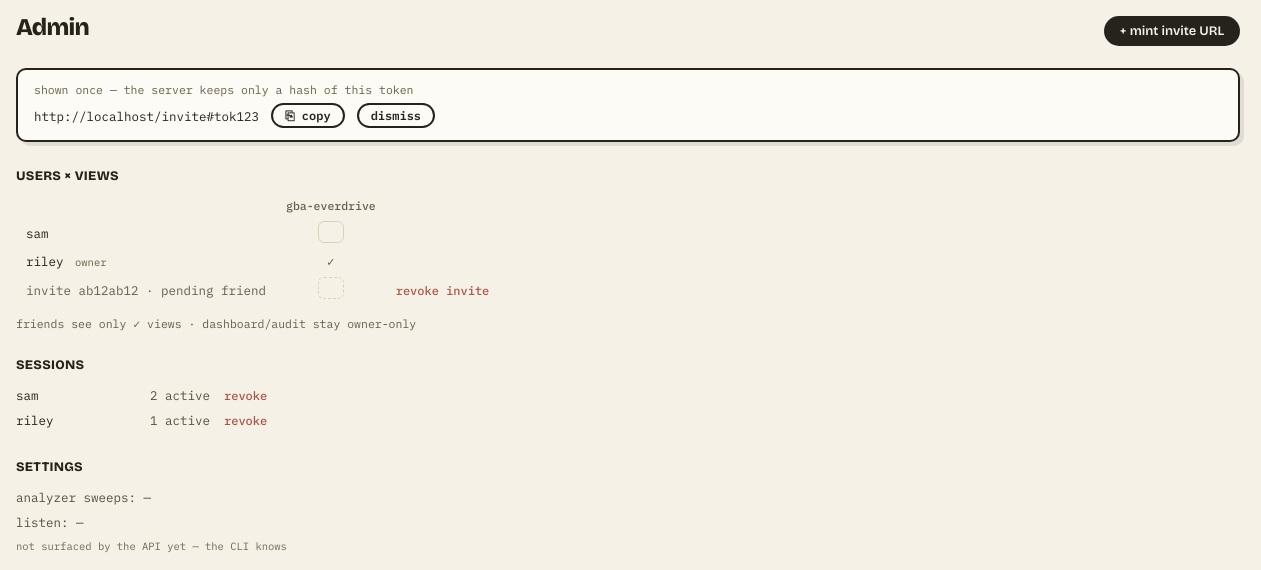
Scenario: session revoke zeroes the active count
The width and height of the screenshot is (1261, 570).
Expected: the text "2 active" is shown, x1=150 y1=383 x2=210 y2=408
Click the button "revoke" next to "2 active".
click(246, 396)  # box x1=224 y1=388 x2=267 y2=403
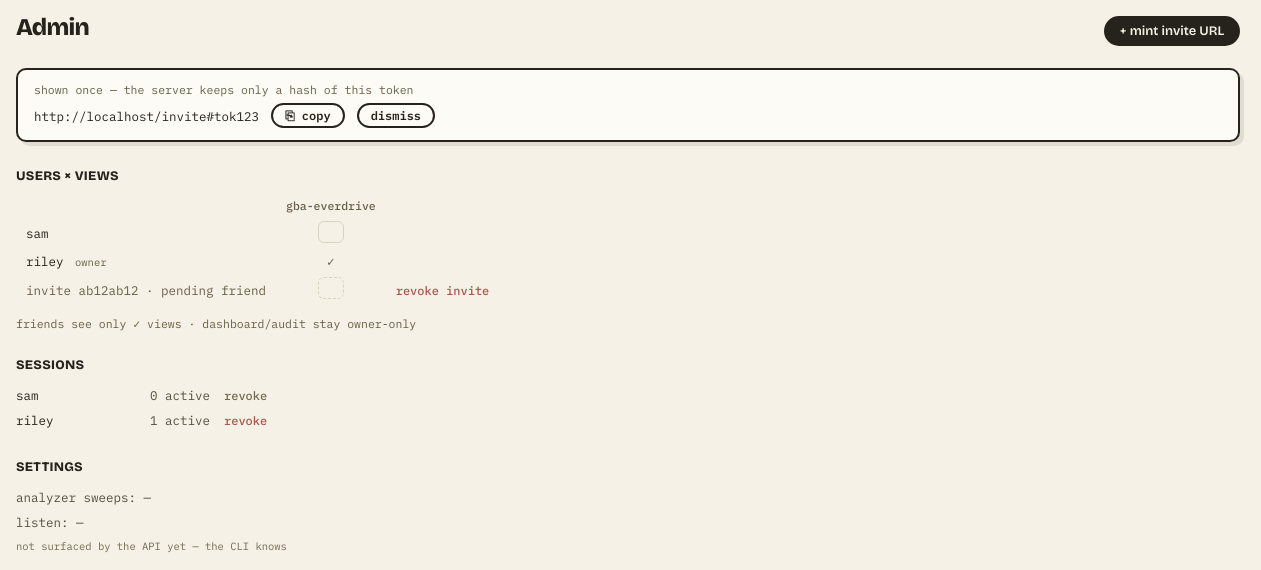
Expected: the text "0 active" is shown once, x1=150 y1=383 x2=210 y2=408
Expected: the text "2 active" is gone
